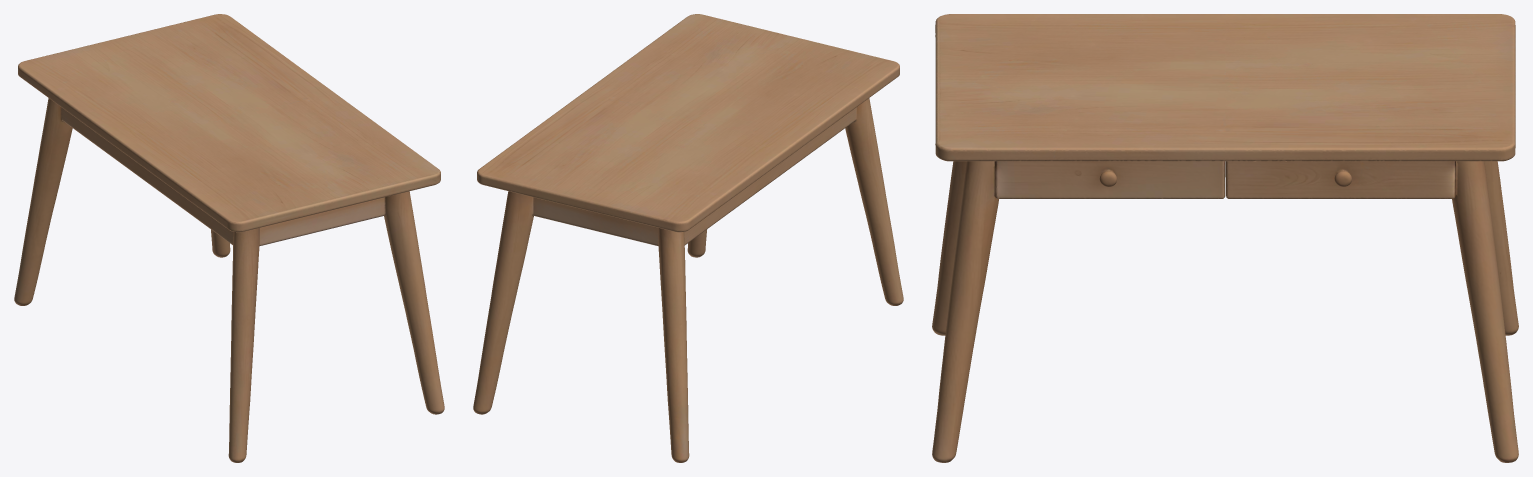
File: realistic_wooden_office_desk_01.glb
3 renders of one model, left to right at view 1: azimuth 30°, elevation 25°; view 2: azimuth 150°, elevation 25°; view 3: azimuth 270°, elevation 25°, orthographic. The views are drawn at different scales.
Visible parts, largest first — view 1: tripo_node_b574d343-f49a-4377-8846-e7b2bc31b3e0; view 2: tripo_node_b574d343-f49a-4377-8846-e7b2bc31b3e0; view 3: tripo_node_b574d343-f49a-4377-8846-e7b2bc31b3e0.
Part boxes in pixels (box(x1,y1,x2,y2)): tripo_node_b574d343-f49a-4377-8846-e7b2bc31b3e0: box(14, 14, 444, 462); tripo_node_b574d343-f49a-4377-8846-e7b2bc31b3e0: box(473, 14, 903, 462); tripo_node_b574d343-f49a-4377-8846-e7b2bc31b3e0: box(932, 14, 1518, 462).
Size of the model in its own units: 0.5516 by 0.5955 by 1.
Materials: 1 (1 with a texture image).
